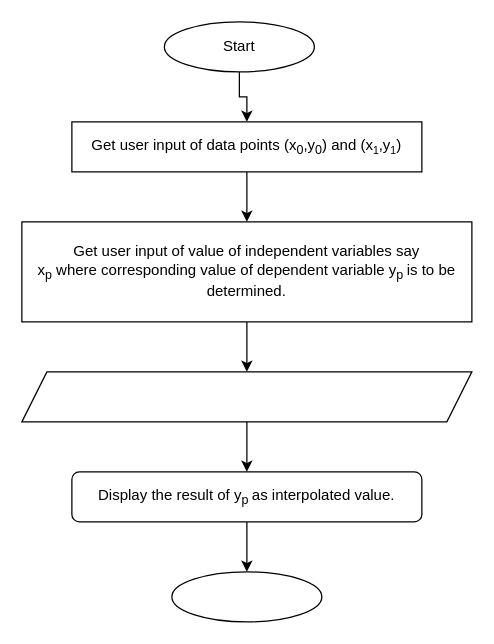
This 494x644 diagram has some shape labels left out. Each missing label, with the box of its shape:
Calculate y p = y 0 + (y 1 -y 0 )/(x 1 -x 0 ) *(x p -x 0 )): (21, 371, 472, 422)
Terminate: (171, 571, 322, 622)
